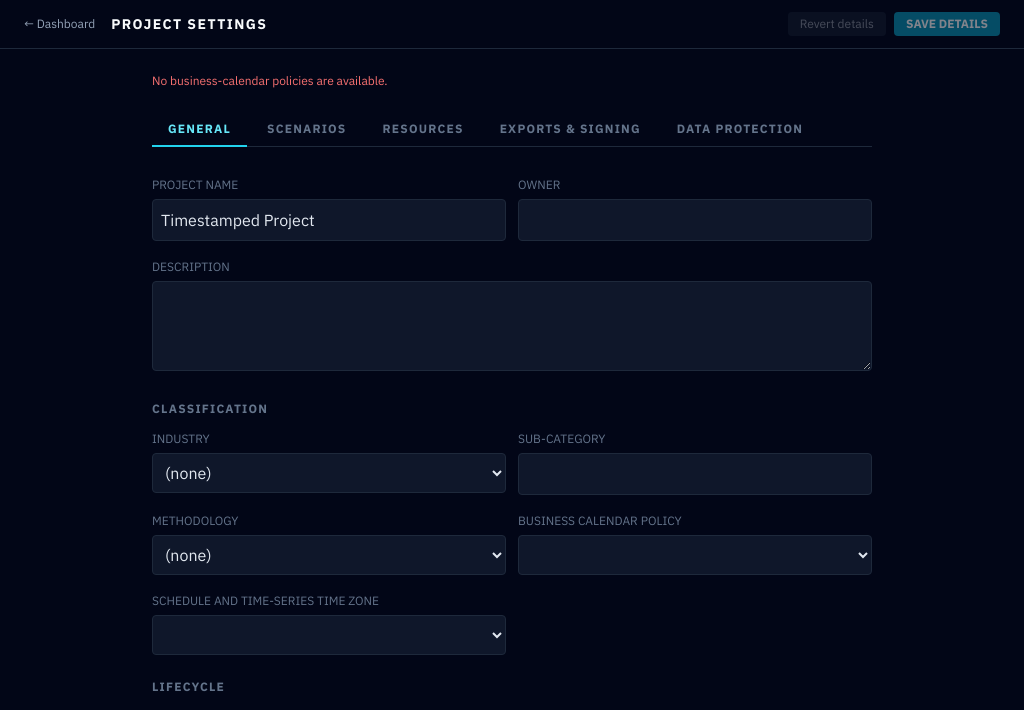
tab wiring › reveals each tab’s own content on switch and hides General’s
expect the tab "General" is shown: met, box [152,113,247,147]
Click the tab "Scenarios".
click(307, 130)  # box [251,113,363,147]
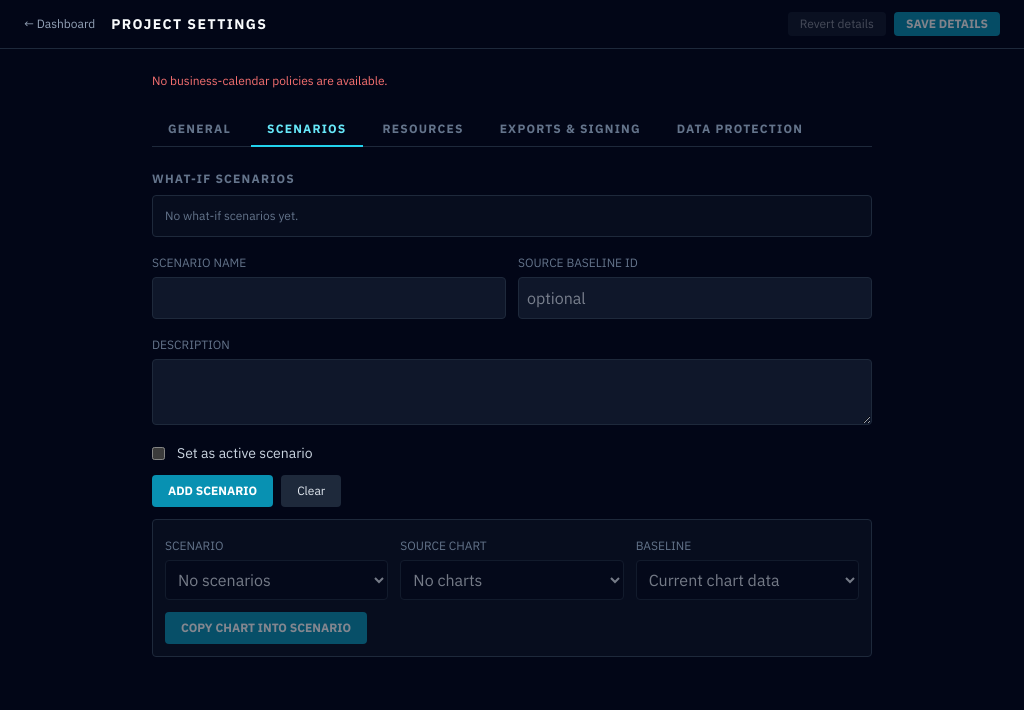
expect the heading "What-if Scenarios" is shown: met, box [152,171,295,186]
expect the text labelled "Project name" is gone: met
Click the tab "Resources".
click(423, 130)  # box [366,113,480,147]
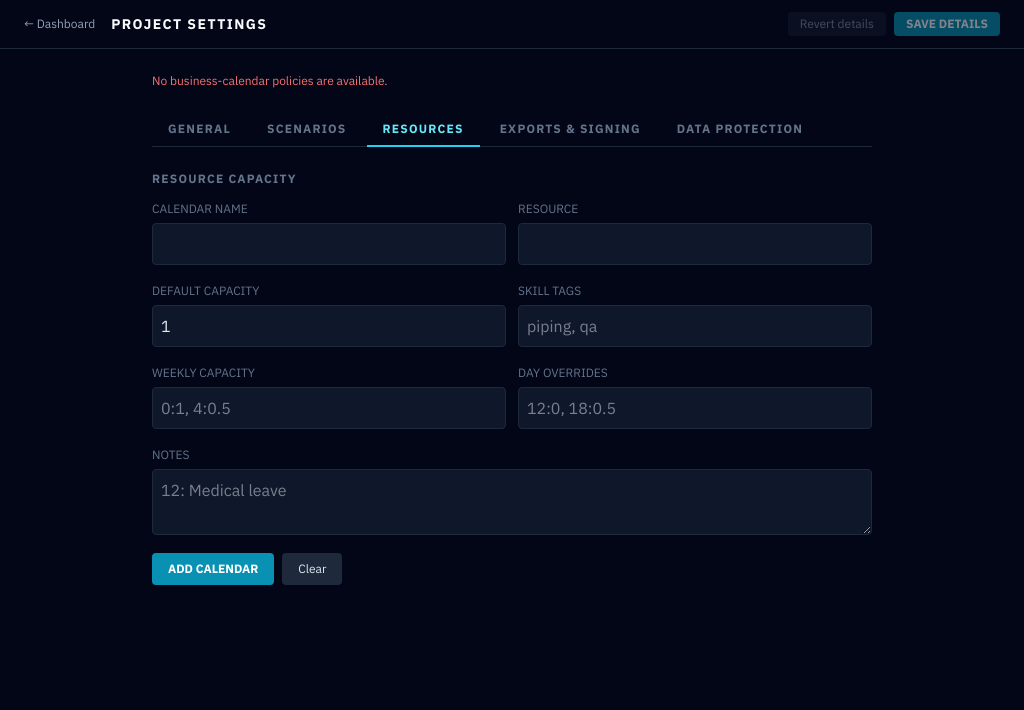
expect the heading "Resource Capacity" is shown: met, box [152,171,297,186]
Click the tab "Exports & Signing".
click(570, 130)  # box [484,113,657,147]
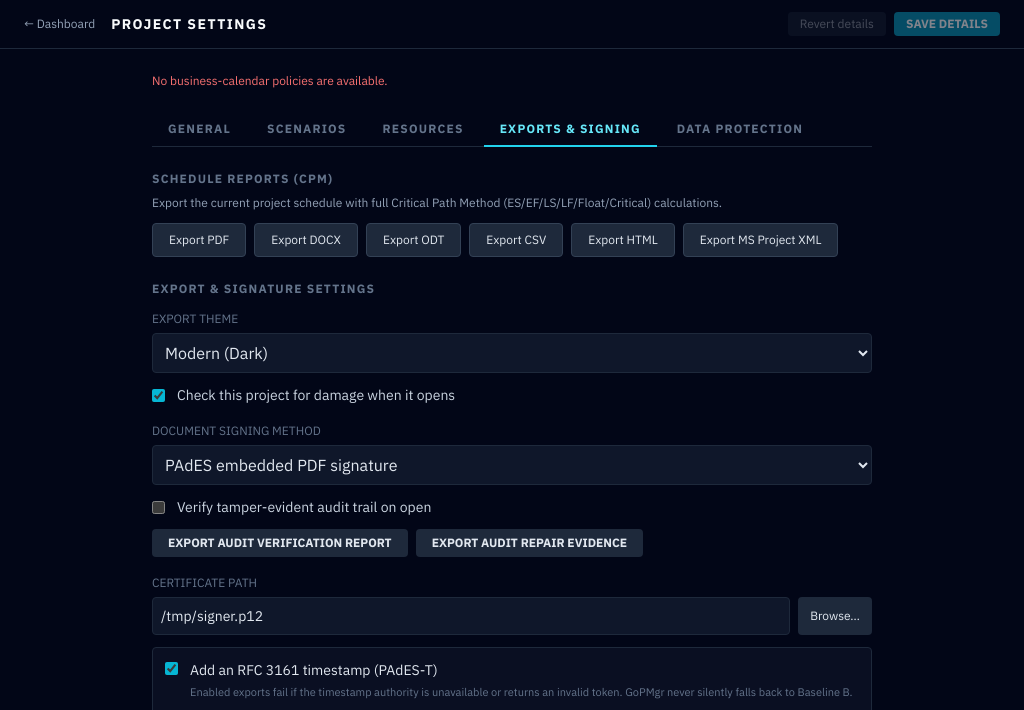
expect the heading "Schedule Reports (CPM)" is shown: met, box [152,171,333,186]
expect the heading "Export & Signature Settings" is shown: met, box [152,281,375,296]
Click the tab "Data Protection".
click(740, 130)  # box [661,113,819,147]
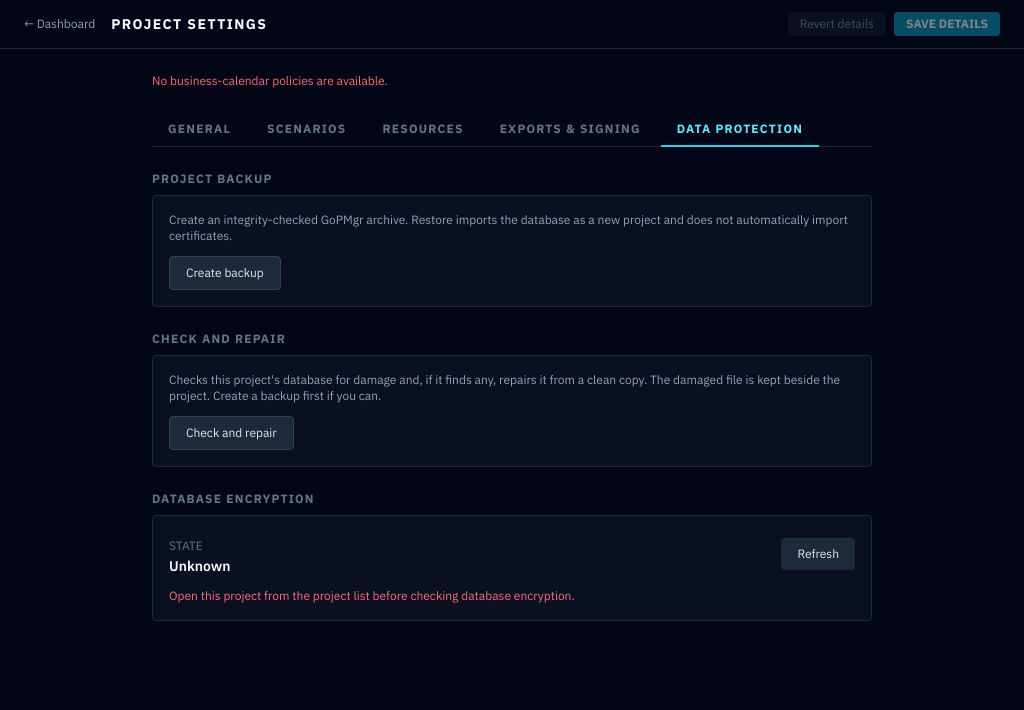
expect the heading "Project Backup" is shown: met, box [152,171,272,186]
expect the heading "Database Encryption" is shown: met, box [152,491,315,506]
